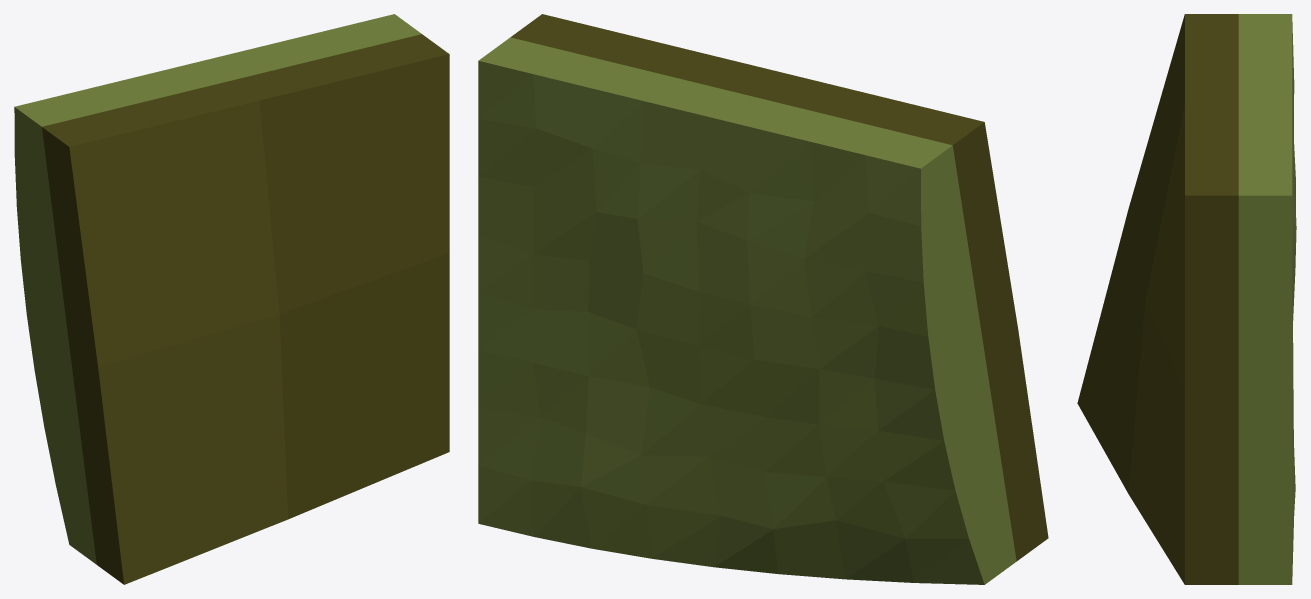
File: Slope_Top_Down_Corner.fbx
The picture shows the model from 3 angles, left to right: view 1: azimuth 30°, elevation 25°; view 2: azimuth 150°, elevation 25°; view 3: azimuth 270°, elevation 25°; orthographic projection. The views are drawn at different scales.
Parts seen in each view (by area): view 1: Slope_Top_Down_Corner; view 2: Slope_Top_Down_Corner; view 3: Slope_Top_Down_Corner.
Part boxes in pixels (left/top/right/bottom): Slope_Top_Down_Corner: left=14, top=14, right=449, bottom=584; Slope_Top_Down_Corner: left=478, top=14, right=1048, bottom=584; Slope_Top_Down_Corner: left=1077, top=14, right=1296, bottom=584.
Size of the model in its own units: 400 by 400 by 204.
